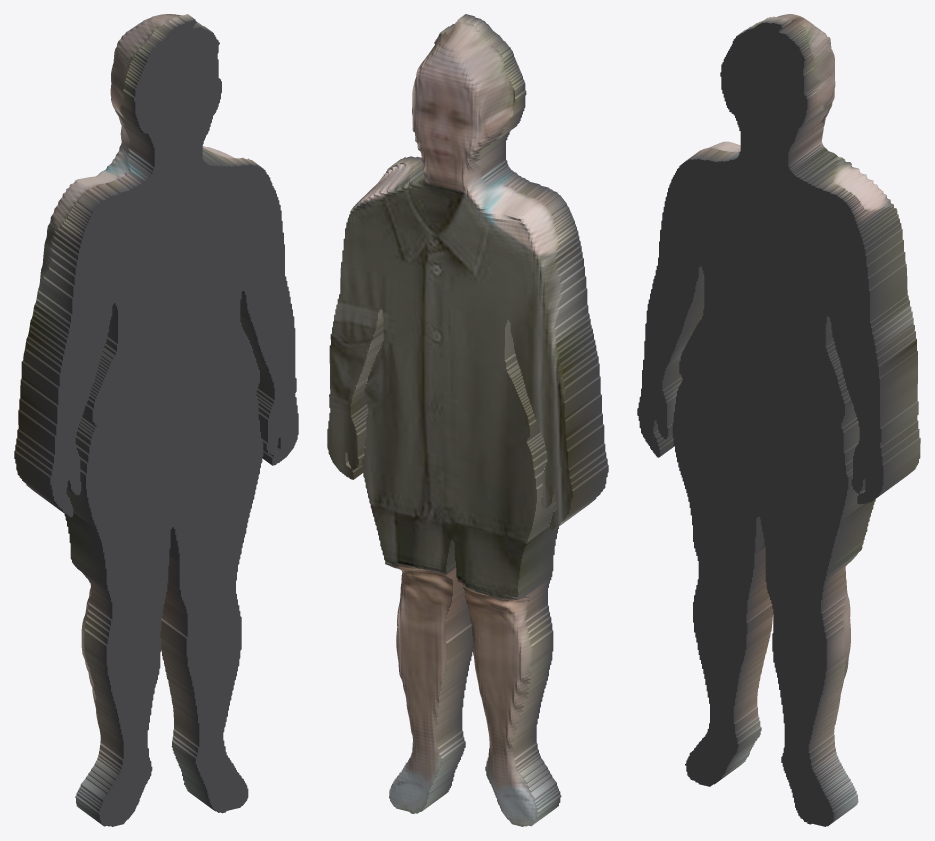
The model's file is avatar_205748.glb.
The picture shows the model from 3 angles, left to right: view 1: azimuth 30°, elevation 25°; view 2: azimuth 150°, elevation 25°; view 3: azimuth 330°, elevation 25°; orthographic projection.
Parts seen in each view (by area): view 1: world; view 2: world; view 3: world.
Part boxes in pixels (x1,y1,x2,y2): world: [14, 14, 298, 826]; world: [327, 14, 608, 826]; world: [637, 14, 920, 826].
Bounding box in the file's own units: 39.06 × 120 × 10.61.
